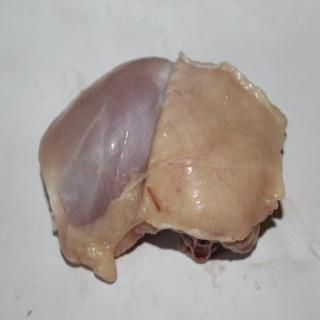Ayam: (39, 59, 286, 283)
